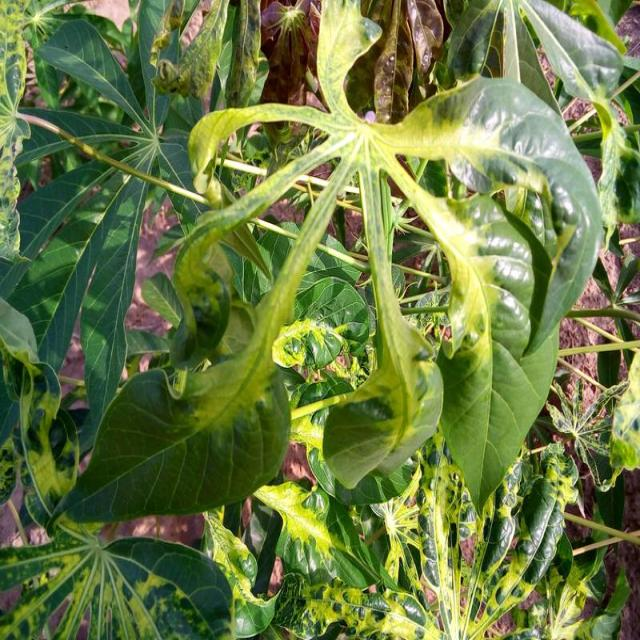cassava leaf: (174, 1, 604, 514)
